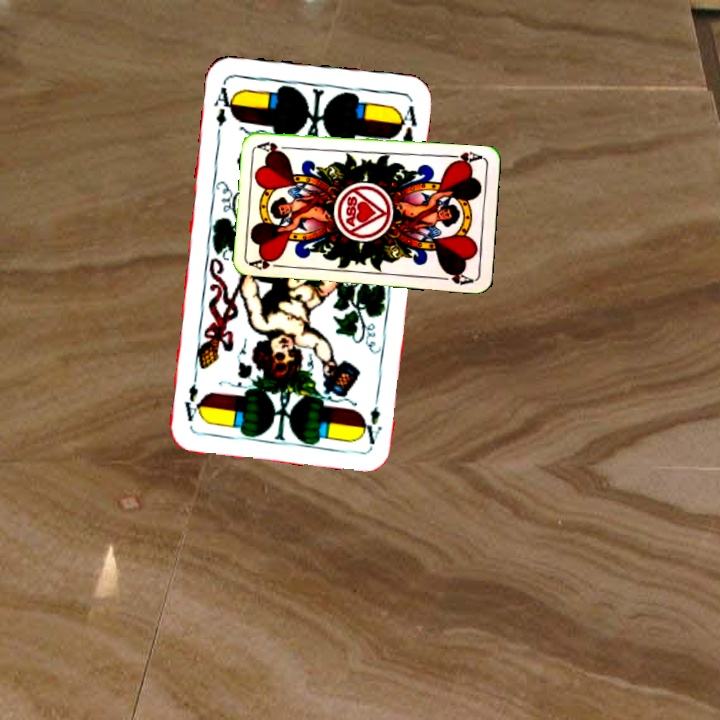EA: (209, 79, 238, 129), (360, 387, 384, 447)
HA: (444, 148, 485, 168), (247, 254, 288, 273)
